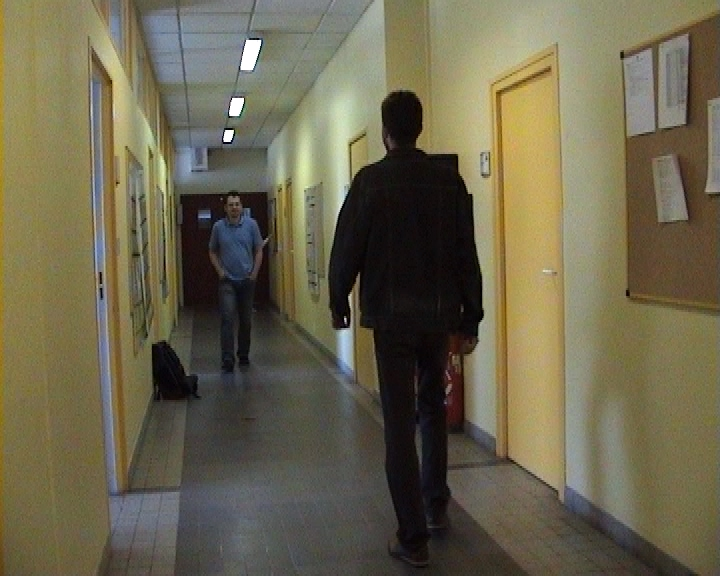leave bag unattended: (132, 327, 199, 406)
